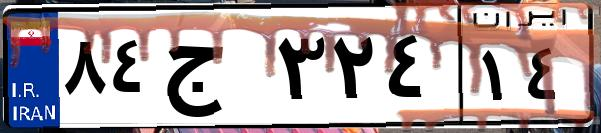1: (475, 38, 525, 113)
2: (330, 28, 385, 110)
3: (270, 28, 330, 110)
4: (385, 28, 445, 110), (525, 38, 570, 115), (110, 28, 158, 98)
8: (57, 26, 110, 100)
ج: (158, 20, 270, 120)
